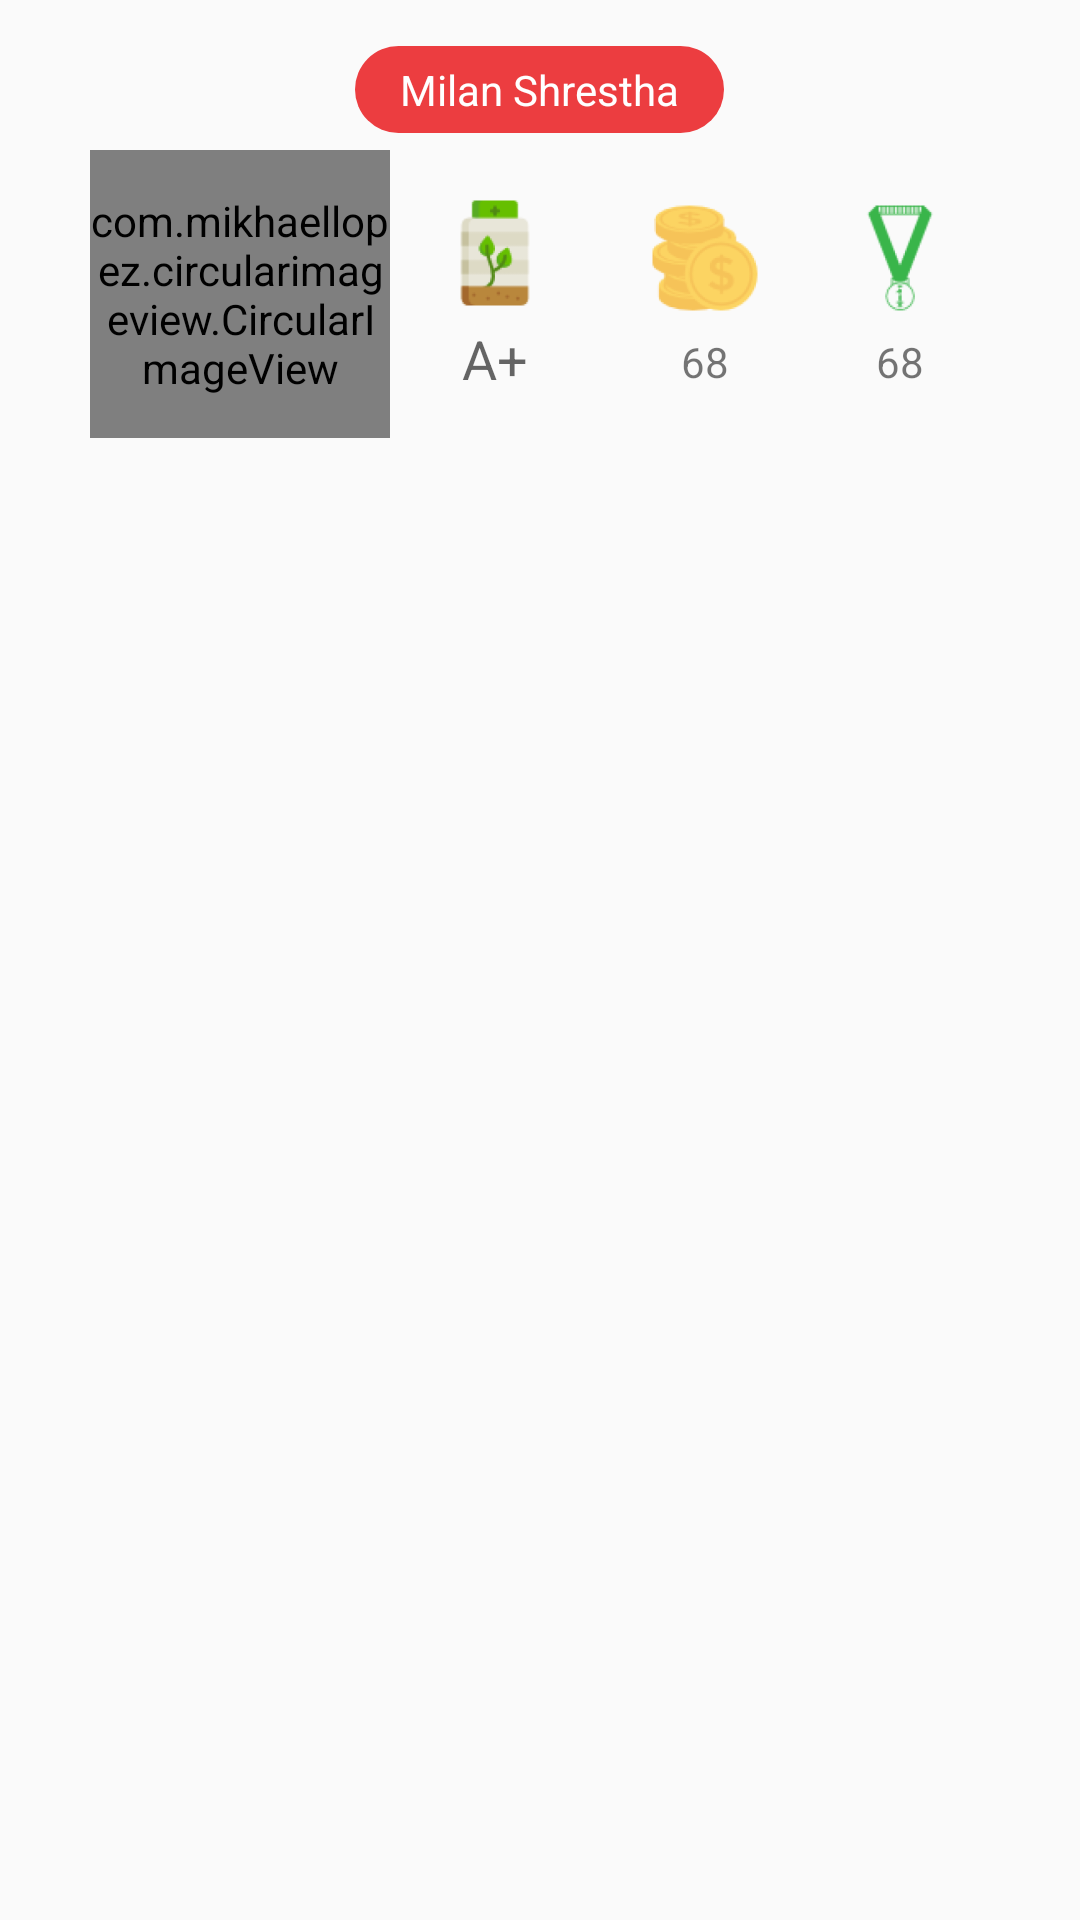

Named icons in this screenshot (1080 x 1920) and their centers, (x=x, y=y):
coines: (x=705, y=258)
